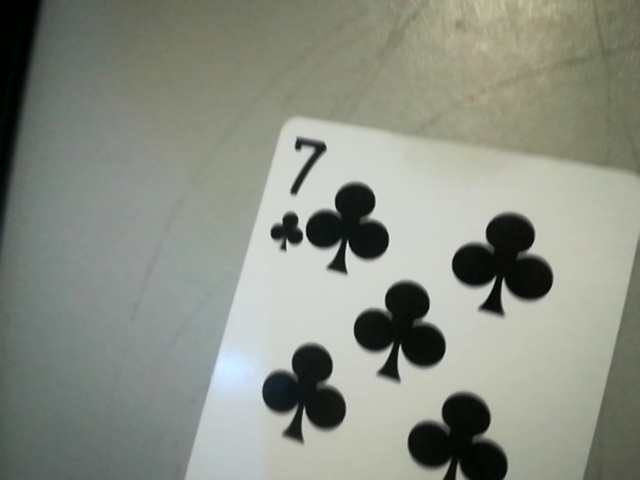mh 7: (262, 128, 323, 255)
